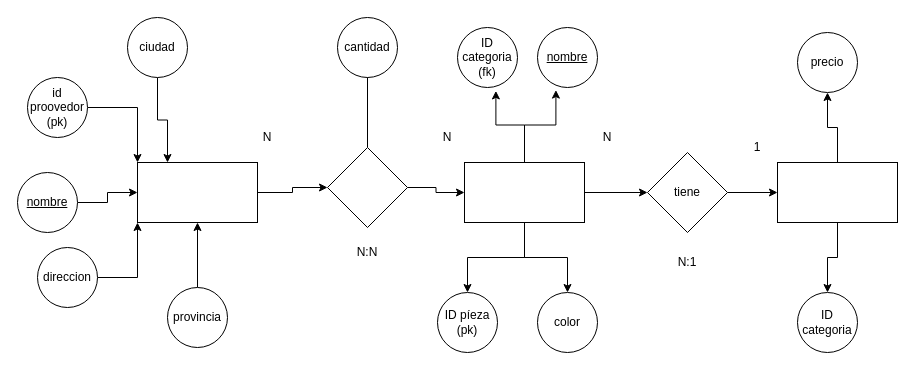
Some shapes in this 915 by 370 pixel diagram are drawn without their labels. Here are the shapes that lost their labels. From the top down, the centre of each, then its label:
the point at 197,192: PROOVEDORES
the point at 367,187: Suministra
the point at 524,192: PIEZAS
the point at 837,192: CATEGORIAS
